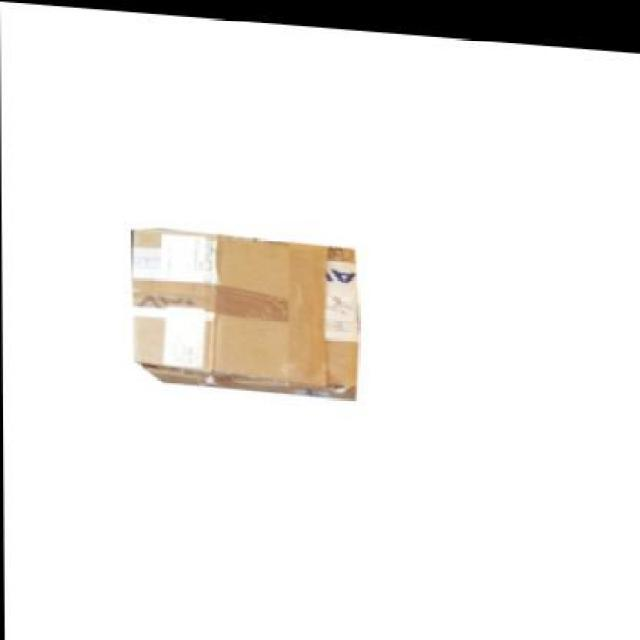box: (132, 225, 355, 392)
